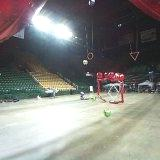Green_Balloon: (104, 108, 112, 117), (90, 95, 96, 102), (83, 60, 88, 65)
Orange_Circle_GShape: (87, 52, 93, 60)
Orange_Triangle_Gshape: (130, 51, 140, 60)
Purple_Balloon: (88, 0, 96, 6)
